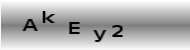2: (110, 24, 123, 37)
A: (21, 18, 39, 32)
E: (67, 21, 81, 35)
k: (41, 10, 55, 24)
y: (92, 28, 106, 42)
